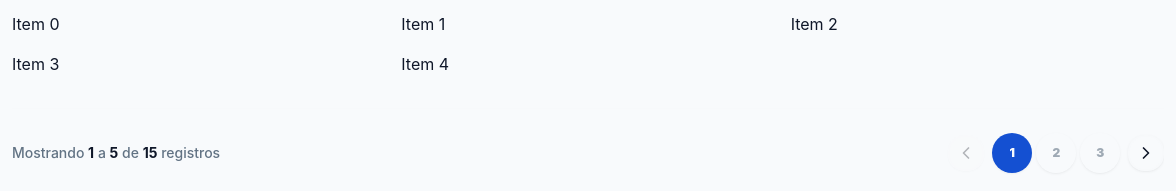
Test: DataView Component › handles pagination correctly
Expected: the number of elements with test id "grid-item" is 5, x1=12 y1=14 x2=60 y2=34; x1=401 y1=14 x2=445 y2=34; x1=791 y1=14 x2=838 y2=34; x1=12 y1=54 x2=59 y2=74; x1=401 y1=54 x2=449 y2=74
Expected: the text "Item 0" is shown, x1=12 y1=14 x2=60 y2=34
Go to next page
Click the 5th button: x=1146, y=153 x1=1128 y1=135 x2=1164 y2=171
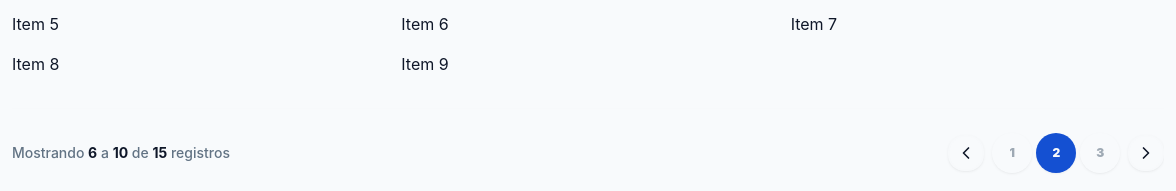
Result: the text "Item 5" is shown at x1=12 y1=14 x2=59 y2=34
Result: the text "Item 9" is shown at x1=401 y1=54 x2=449 y2=74
Result: the 1st button is enabled at x1=948 y1=135 x2=984 y2=171
Click page 3 directly
Click the button "3": x=1100, y=153 x1=1080 y1=133 x2=1120 y2=173
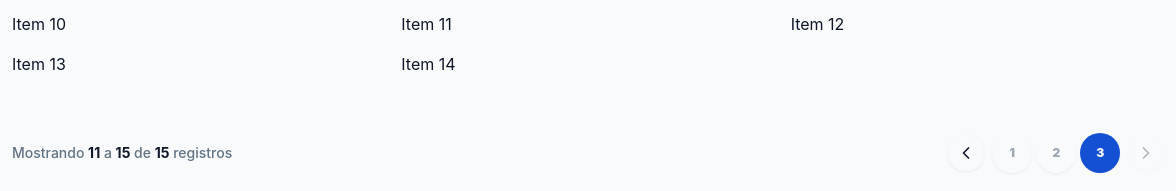
Result: the text "Item 10" is shown at x1=12 y1=14 x2=66 y2=34
Result: the text "Item 14" is shown at x1=401 y1=54 x2=456 y2=74
Result: the 5th button is disabled at x1=1128 y1=135 x2=1164 y2=171
